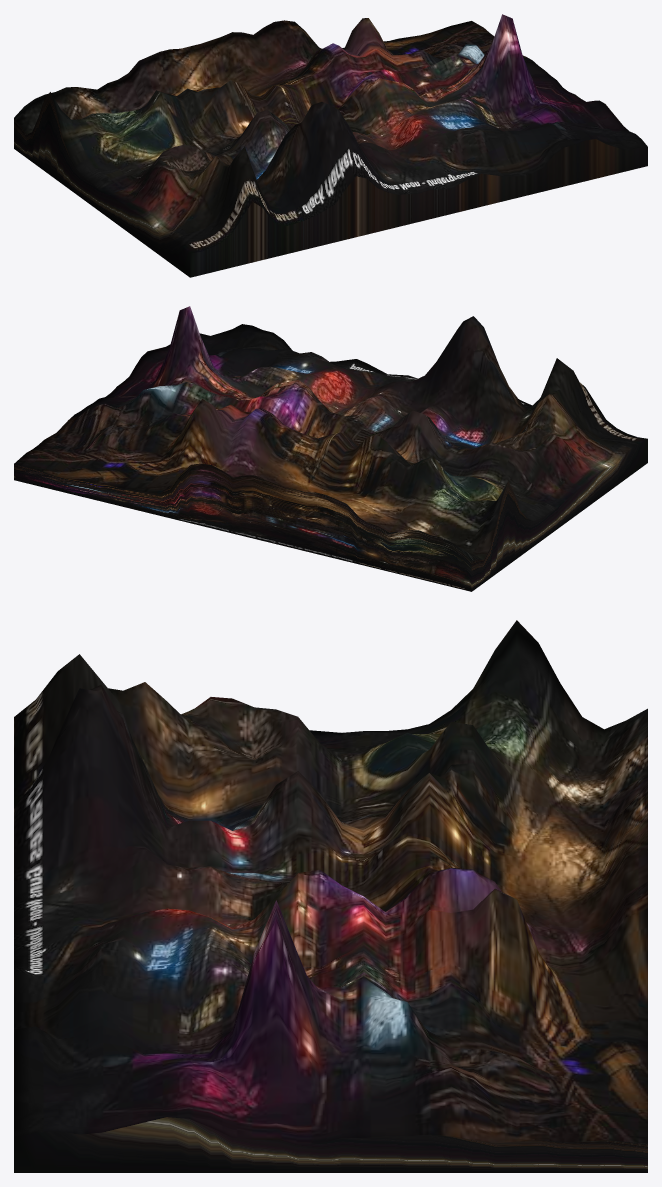
Rendered from FACTION_INT_02_Mafia.glb.
3 views of the same model, one above another, from view 1: azimuth 30°, elevation 25°; view 2: azimuth 150°, elevation 25°; view 3: azimuth 270°, elevation 25° (orthographic). The views are drawn at different scales.
Parts seen in each view (by area): view 1: FACTION_INT_02_Mafia; view 2: FACTION_INT_02_Mafia; view 3: FACTION_INT_02_Mafia.
Boxes of the visible parts, <box> form: FACTION_INT_02_Mafia: <box>14,14,647,277</box>; FACTION_INT_02_Mafia: <box>14,306,647,591</box>; FACTION_INT_02_Mafia: <box>14,620,647,1172</box>.
Size of the model in its own units: 2 by 0.51 by 1.33.
Materials: 1 (1 with a texture image).
